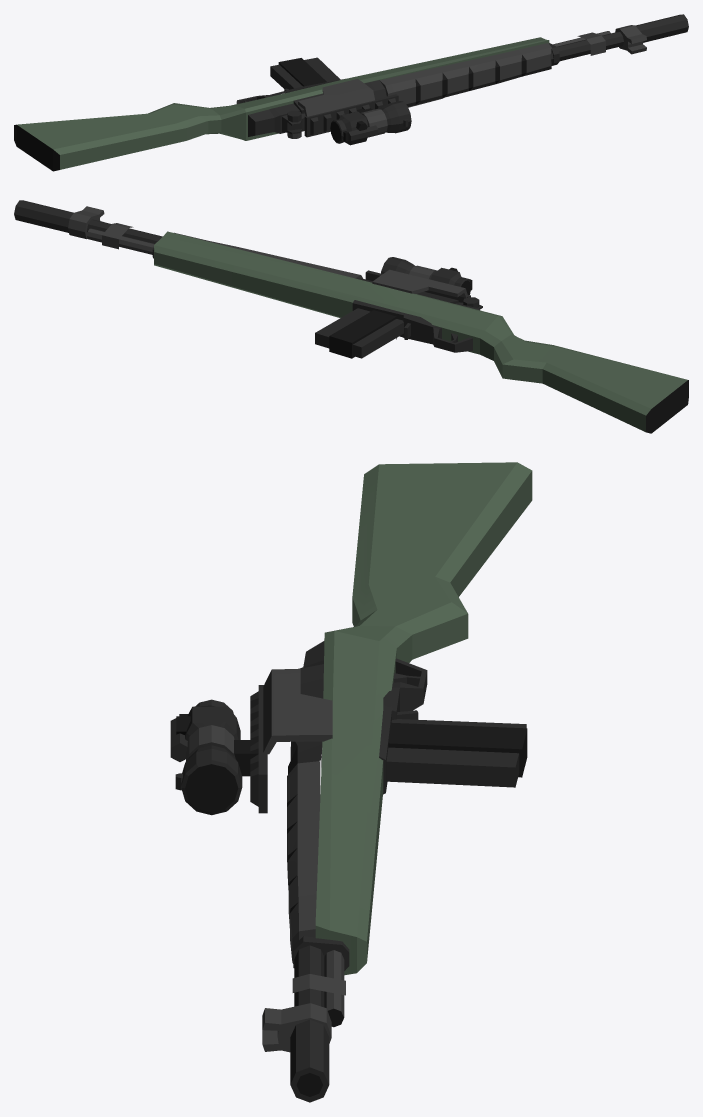
3 renders of one model, top to bottom at view 1: azimuth 30°, elevation 25°; view 2: azimuth 150°, elevation 25°; view 3: azimuth 270°, elevation 25°, orthographic. The views are drawn at different scales.
Visible parts, largest first — view 1: M14Body.001; view 2: M14Body.001; view 3: M14Body.001.
Boxes of the visible parts, <box> form: M14Body.001: <box>14,14,688,171</box>; M14Body.001: <box>14,200,688,433</box>; M14Body.001: <box>170,462,532,1102</box>.
Bounding box in the file's own units: 1.07 × 0.0805 × 0.2718.
1 material, 1 textured.
